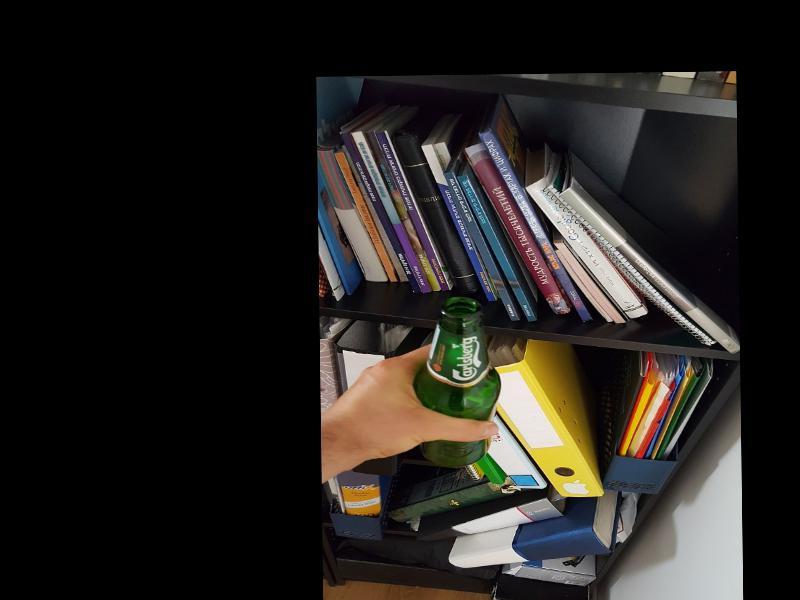Beer: (415, 296, 500, 469)
